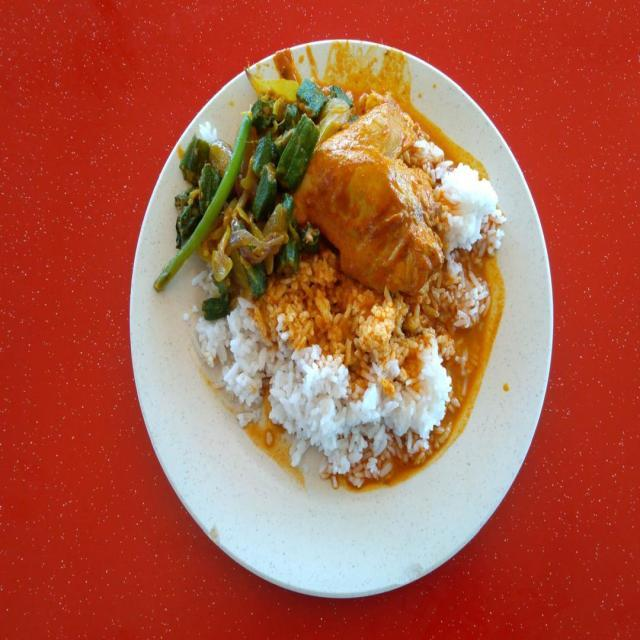Chicken: (297, 101, 441, 301)
Plate: (133, 51, 549, 595)
Rice: (200, 167, 501, 469)
Vegetables: (162, 72, 341, 319)
